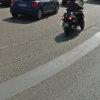Motorcycle: (57, 0, 95, 40)
